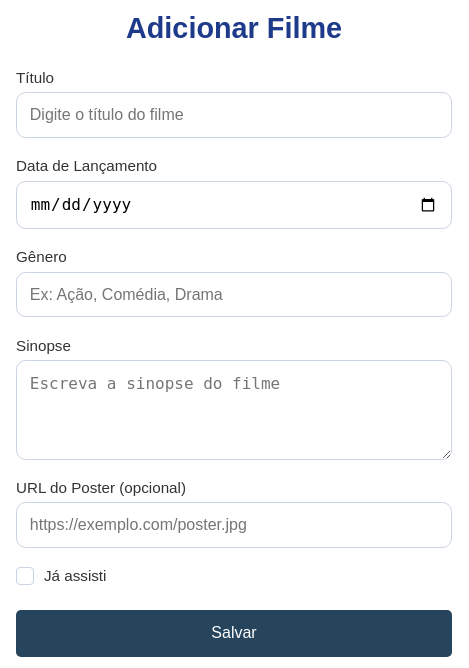
MovieForm › exibe erro ao submeter formulário vazio
The width and height of the screenshot is (469, 668).
Click the button "Salvar".
click(234, 633)  # box 16,610 -> 452,657
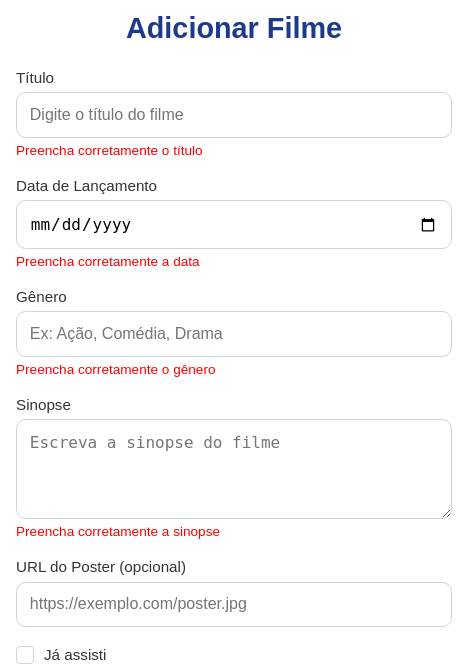
Result: the text "Preencha corretamente o título" is shown at 16,143 -> 203,158
Result: the text "Preencha corretamente a data" is shown at 16,254 -> 200,269
Result: the text "Preencha corretamente o gênero" is shown at 16,362 -> 216,377
